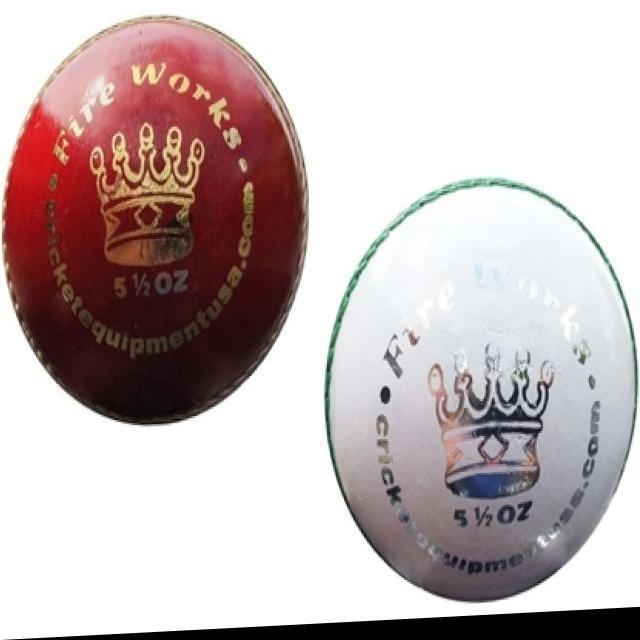cricket ball: (324, 183, 638, 608), (0, 17, 310, 428)
